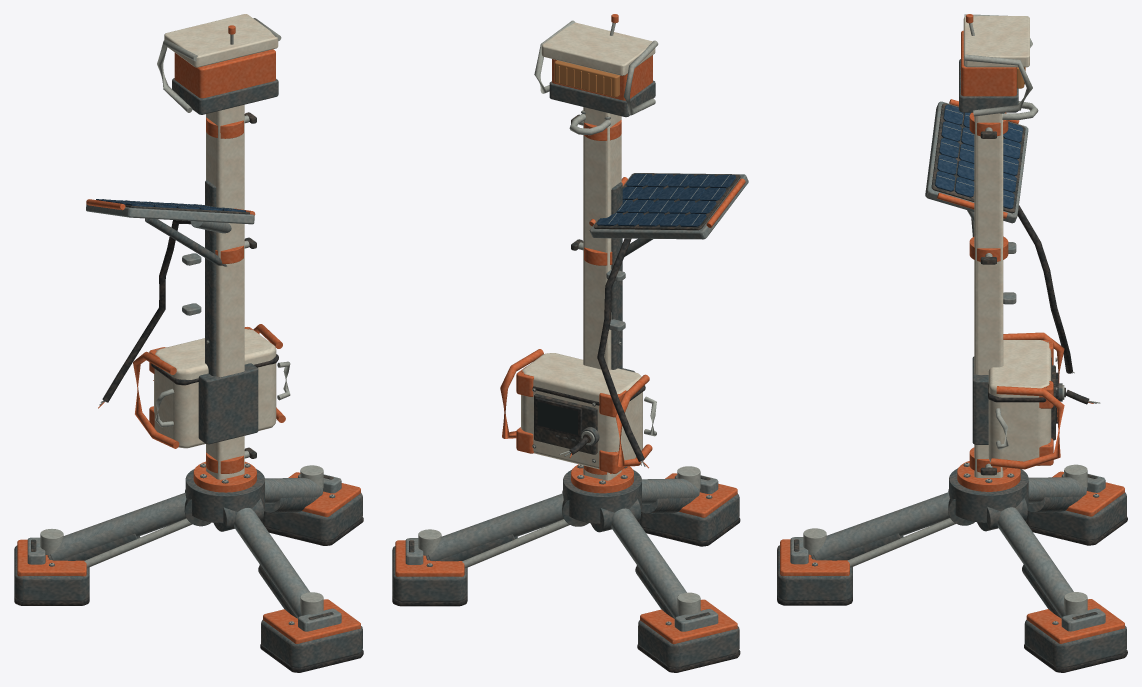
Rendered from pad_beacon.glb.
3 views of the same model, side by side, from view 1: azimuth 30°, elevation 25°; view 2: azimuth 150°, elevation 25°; view 3: azimuth 270°, elevation 25° (orthographic).
Parts seen in each view (by area): view 1: Square_instrument_mast_rover_white, Battery_flight_housing_rover_white, Electronics_mount_box_dark_alloy, Wide_beacon_glare_hood_rover_white, Tripod_leg_link_alloy.001, Approach_lamp_orange_frame_orange, Tripod_leg_link_alloy.002, Replaceable_ballast_shoe_dark_alloy.002, Replaceable_ballast_shoe_dark_alloy, Tripod_spider_hub_dark_alloy, Replaceable_ballast_shoe_dark_alloy.001, Raised_side_channel_dark_alloy (+18 smaller); view 2: Battery_flight_housing_rover_white, Square_instrument_mast_rover_white, Wide_beacon_glare_hood_rover_white, Tripod_leg_link_alloy, Tripod_leg_link_alloy.001, Replaceable_ballast_shoe_dark_alloy.001, Replaceable_ballast_shoe_dark_alloy.002, Tripod_spider_hub_dark_alloy, Replaceable_ballast_shoe_dark_alloy, Dangling_panel_lead_black_rubber, Approach_light_reinforced_foot_dark_alloy, High_visibility_plate_orange.001 (+19 smaller); view 3: Square_instrument_mast_rover_white, Battery_flight_housing_rover_white, Tripod_leg_link_alloy.002, Wide_beacon_glare_hood_rover_white, Tripod_leg_link_alloy, Replaceable_ballast_shoe_dark_alloy, Replaceable_ballast_shoe_dark_alloy.001, Tripod_spider_hub_dark_alloy, Replaceable_ballast_shoe_dark_alloy.002, Approach_lamp_orange_frame_orange, High_visibility_plate_orange, Impact_protection_battery_bail_orange.001 (+17 smaller).
Boxes of the visible parts, x1,y1,x2,y2 form: Square_instrument_mast_rover_white: (206,104,244,479); Battery_flight_housing_rover_white: (154,329,276,448); Electronics_mount_box_dark_alloy: (198,363,258,444); Wide_beacon_glare_hood_rover_white: (164,14,278,67); Tripod_leg_link_alloy.001: (50,492,186,560); Approach_lamp_orange_frame_orange: (174,49,275,98); Tripod_leg_link_alloy.002: (234,508,309,618); Replaceable_ballast_shoe_dark_alloy.002: (261,620,362,667); Replaceable_ballast_shoe_dark_alloy: (261,493,362,540); Tripod_spider_hub_dark_alloy: (185,469,264,523); Replaceable_ballast_shoe_dark_alloy.001: (14,545,89,601); Raised_side_channel_dark_alloy: (205,180,216,376); Battery_flight_housing_rover_white: (521,353,642,469); Square_instrument_mast_rover_white: (583,107,621,480); Wide_beacon_glare_hood_rover_white: (541,22,655,75); Tripod_leg_link_alloy: (428,493,563,560); Tripod_leg_link_alloy.001: (611,508,686,618); Replaceable_ballast_shoe_dark_alloy.001: (638,620,739,667); Replaceable_ballast_shoe_dark_alloy.002: (638,493,739,541); Tripod_spider_hub_dark_alloy: (563,469,641,523); Replaceable_ballast_shoe_dark_alloy: (392,546,467,601); Dangling_panel_lead_black_rubber: (597,238,644,461); Approach_light_reinforced_foot_dark_alloy: (549,80,655,117); High_visibility_plate_orange.001: (640,599,737,644); Square_instrument_mast_rover_white: (974,113,1003,477); Battery_flight_housing_rover_white: (988,340,1051,465); Tripod_leg_link_alloy.002: (813,492,949,560); Wide_beacon_glare_hood_rover_white: (963,16,1029,67); Tripod_leg_link_alloy: (997,507,1073,618); Replaceable_ballast_shoe_dark_alloy: (1024,620,1126,667); Replaceable_ballast_shoe_dark_alloy.001: (1025,492,1126,540); Tripod_spider_hub_dark_alloy: (949,468,1028,522); Replaceable_ballast_shoe_dark_alloy.002: (777,545,852,600); Approach_lamp_orange_frame_orange: (961,30,1016,96); High_visibility_plate_orange: (1026,599,1124,643); Impact_protection_battery_bail_orange.001: (990,386,1064,469).
Size of the model in its own units: 1.4 by 2.2 by 1.22.
10 materials, 8 textured.
